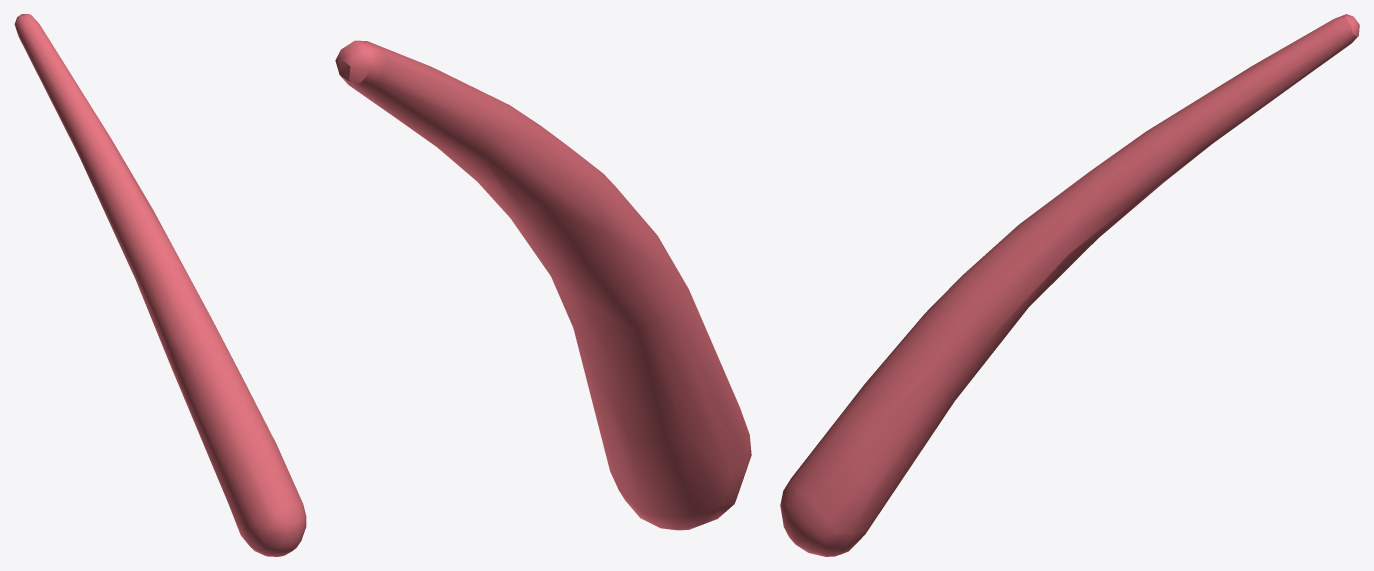
The model's file is fma9438_fj2927.glb.
3 views of the same model, side by side, from view 1: azimuth 30°, elevation 25°; view 2: azimuth 150°, elevation 25°; view 3: azimuth 270°, elevation 25° (orthographic). The views are drawn at different scales.
Parts seen in each view (by area): view 1: FMA9438_FJ2927; view 2: FMA9438_FJ2927; view 3: FMA9438_FJ2927.
Boxes of the visible parts, <box> form: FMA9438_FJ2927: <box>14,14,306,556</box>; FMA9438_FJ2927: <box>335,40,751,530</box>; FMA9438_FJ2927: <box>780,14,1359,556</box>.
Bounding box in the file's own units: 0.00759 × 0.035 × 0.036.
